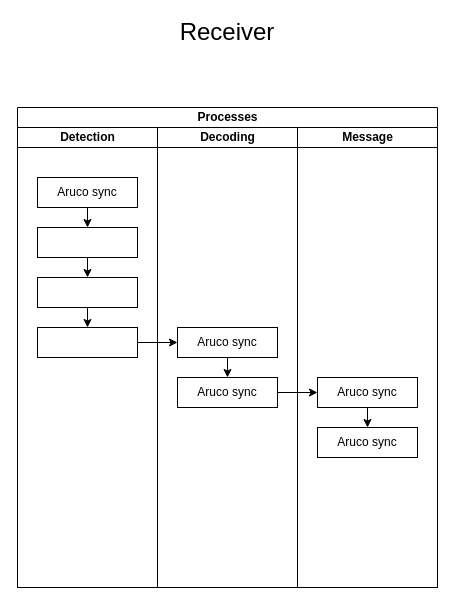
The diagram is 455 pixels wide and 605 high, and some of its shapes have lost their labels. The centre of each missing label's shape, as x and y in pixels:
Color calibration: the point at 87,242
Decoding bits: the point at 87,342
Syncing: the point at 87,292
